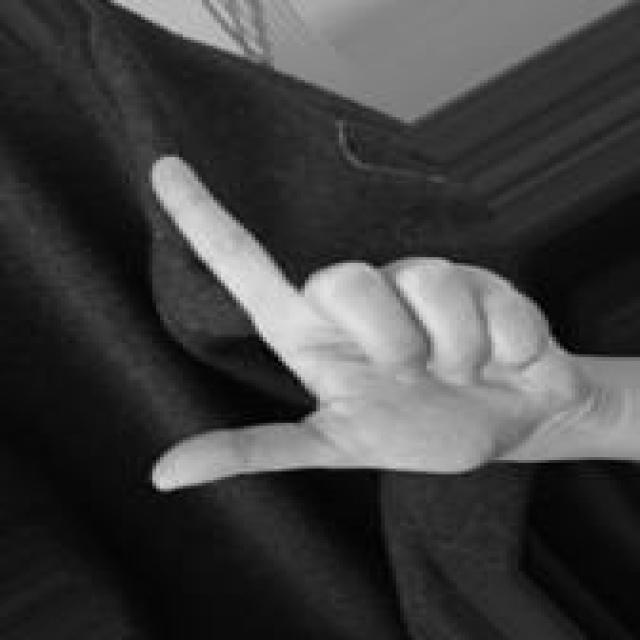L: (122, 135, 596, 504)
